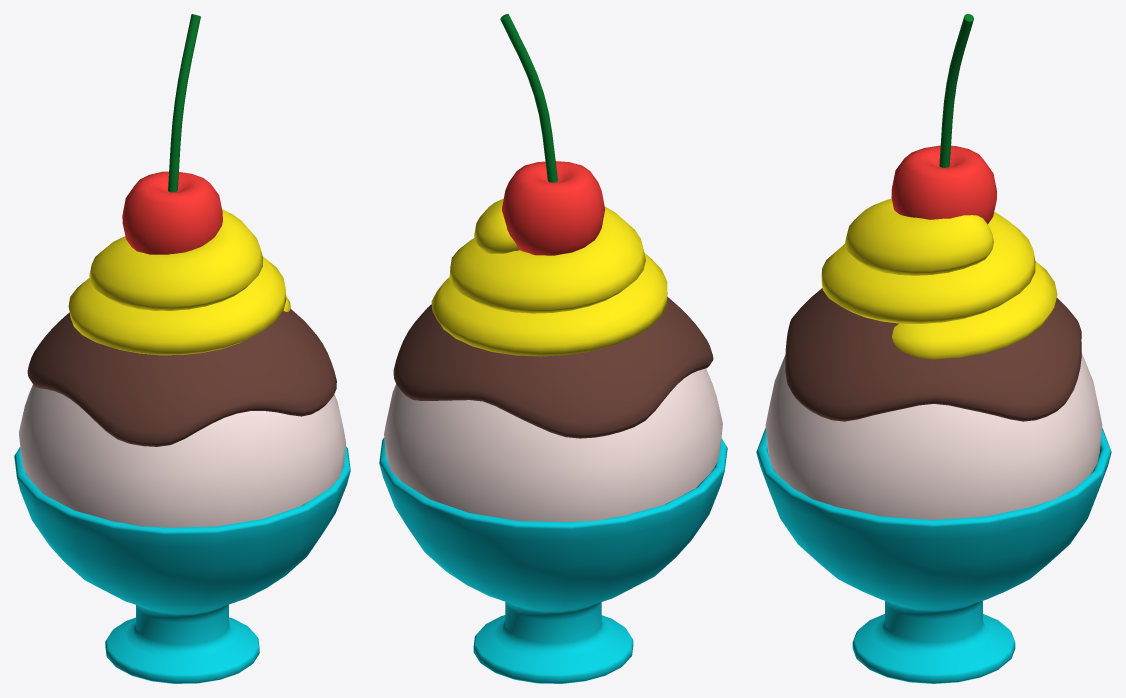
Rendered from Store_4_Ice_Cream_3.glb.
3 views of the same model, side by side, from view 1: azimuth 30°, elevation 25°; view 2: azimuth 150°, elevation 25°; view 3: azimuth 270°, elevation 25° (orthographic). The views are drawn at different scales.
Parts seen in each view (by area): view 1: Store_4_Ice_Cream_3; view 2: Store_4_Ice_Cream_3; view 3: Store_4_Ice_Cream_3.
Part boxes in pixels (box(x1,y1,x2,y2)): Store_4_Ice_Cream_3: box(14, 14, 350, 683); Store_4_Ice_Cream_3: box(379, 14, 727, 683); Store_4_Ice_Cream_3: box(756, 14, 1111, 683).
Bounding box in the file's own units: 0.2763 × 0.5584 × 0.2763.
1 material, 1 textured.
